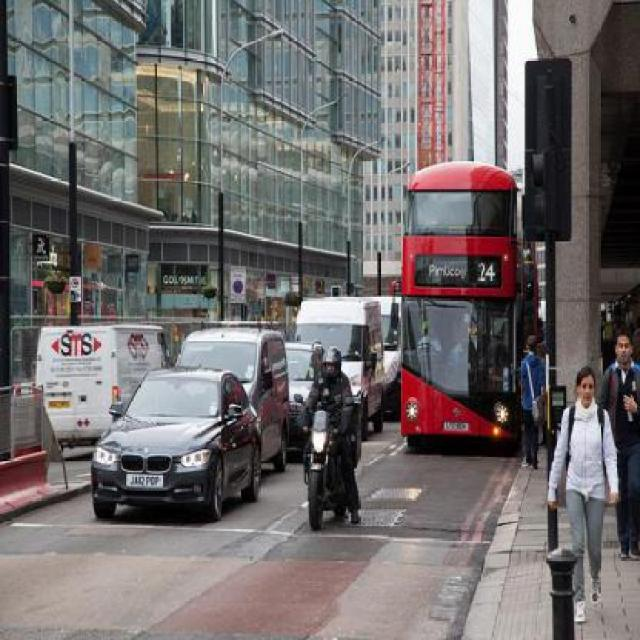Person: (544, 354, 618, 626), (296, 344, 359, 522), (599, 324, 639, 561), (519, 331, 546, 462), (414, 318, 440, 351)
